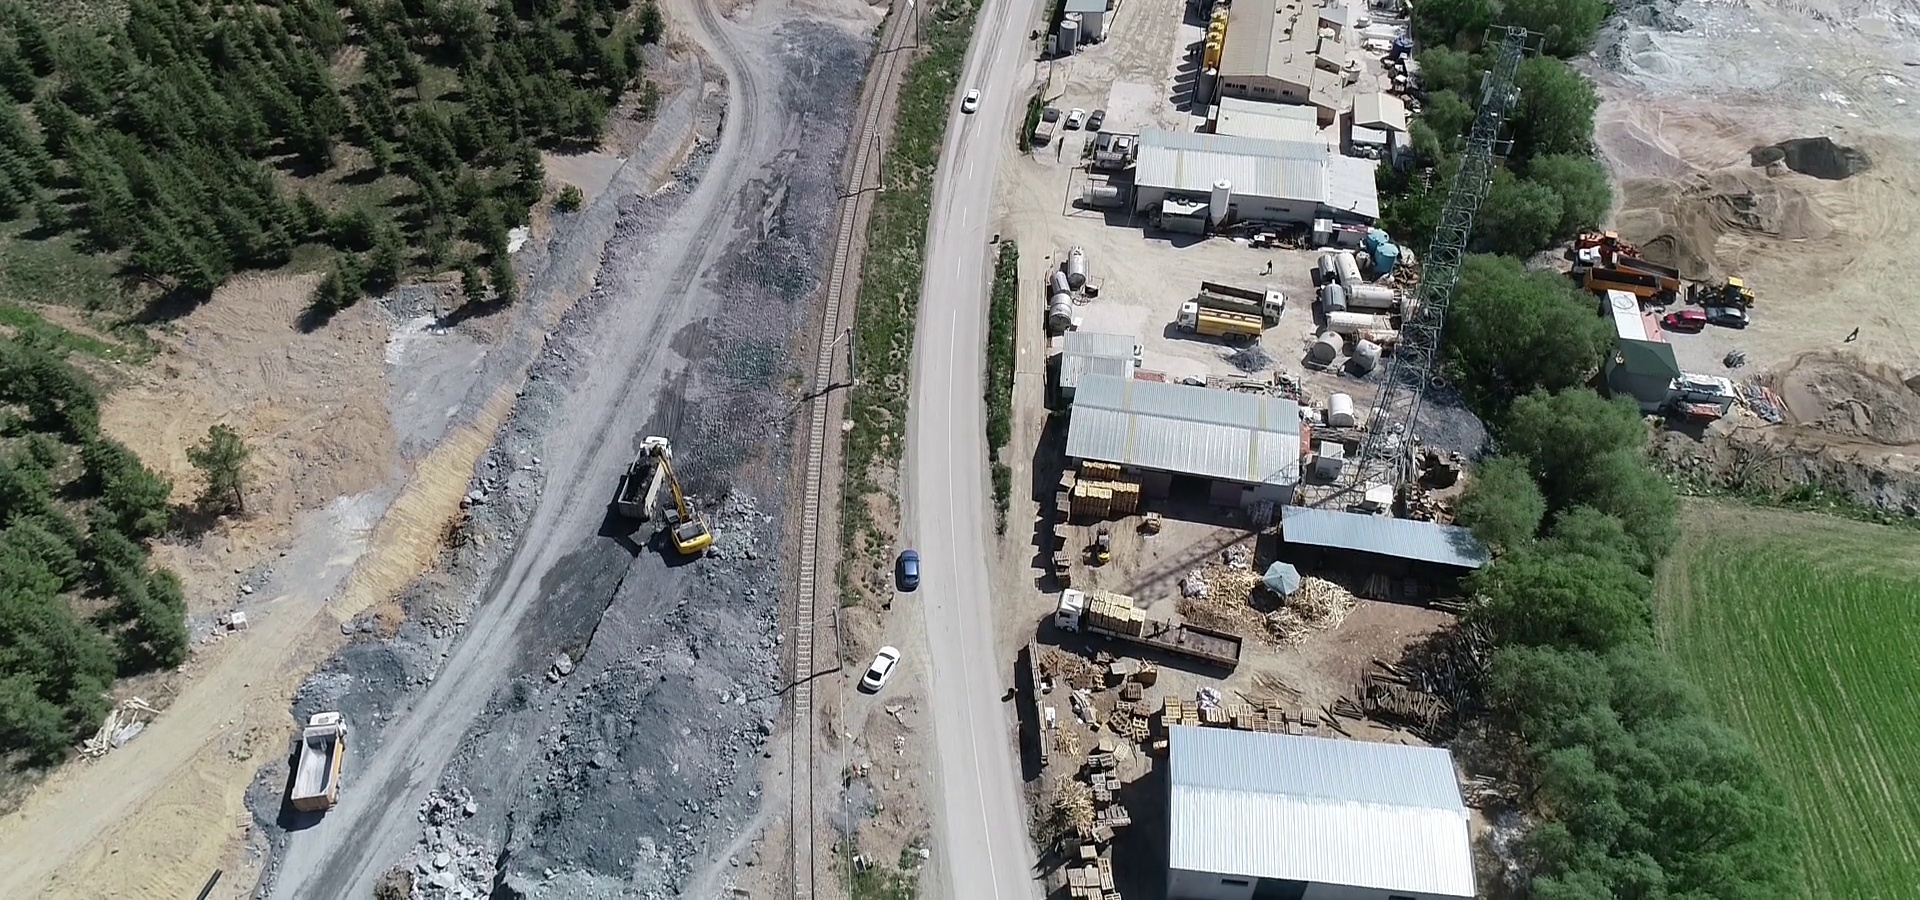araba: (857, 638, 908, 692), (1705, 299, 1764, 329), (891, 547, 926, 595), (1664, 301, 1719, 331), (951, 88, 991, 121), (1060, 105, 1087, 135), (1085, 111, 1107, 132)
insan: (1841, 308, 1866, 347), (1258, 252, 1283, 279)
ismakinesi: (644, 426, 719, 560)
kamyon: (1028, 587, 1262, 679), (280, 699, 357, 833), (603, 430, 671, 525), (1171, 295, 1271, 351), (1191, 275, 1289, 318), (1570, 264, 1672, 293)
traktor: (1680, 276, 1760, 310)
